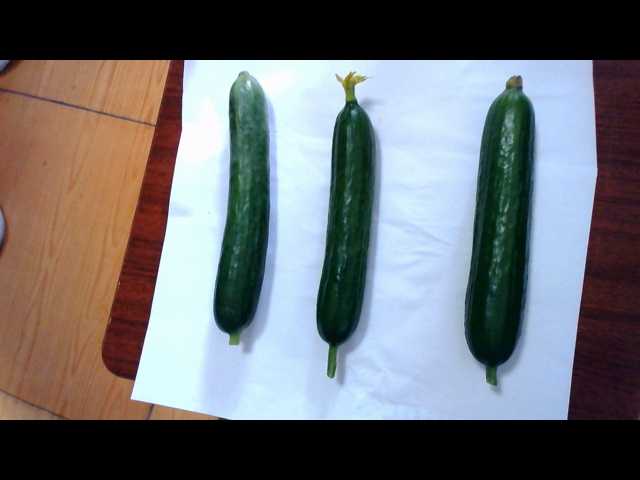cucumber: (457, 81, 537, 391), (304, 81, 369, 386), (215, 75, 282, 357)
